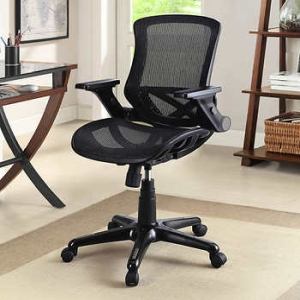chair: (60, 15, 232, 287)
